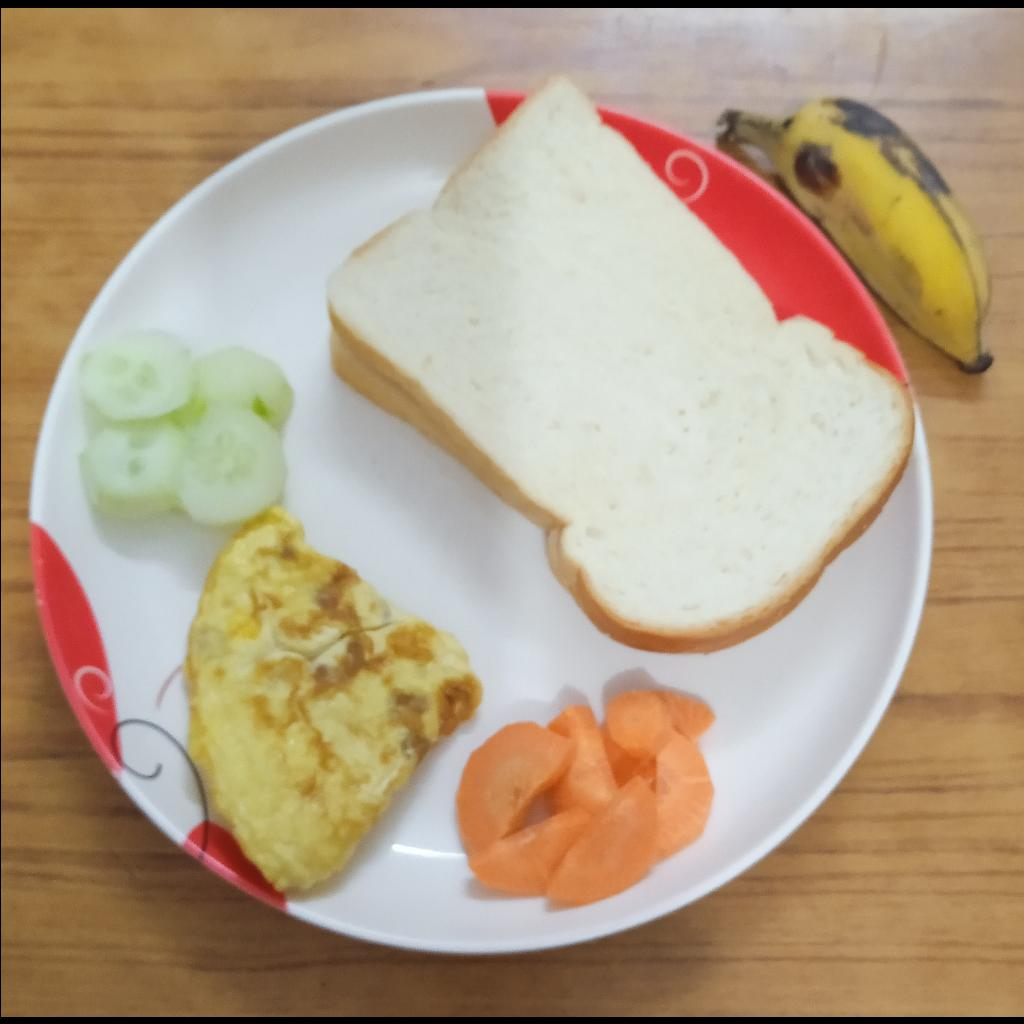banana: (717, 96, 994, 375)
bread: (324, 74, 916, 654)
carrot: (455, 690, 718, 902)
cucumber: (78, 325, 295, 524)
egg-poached: (188, 503, 483, 888)
